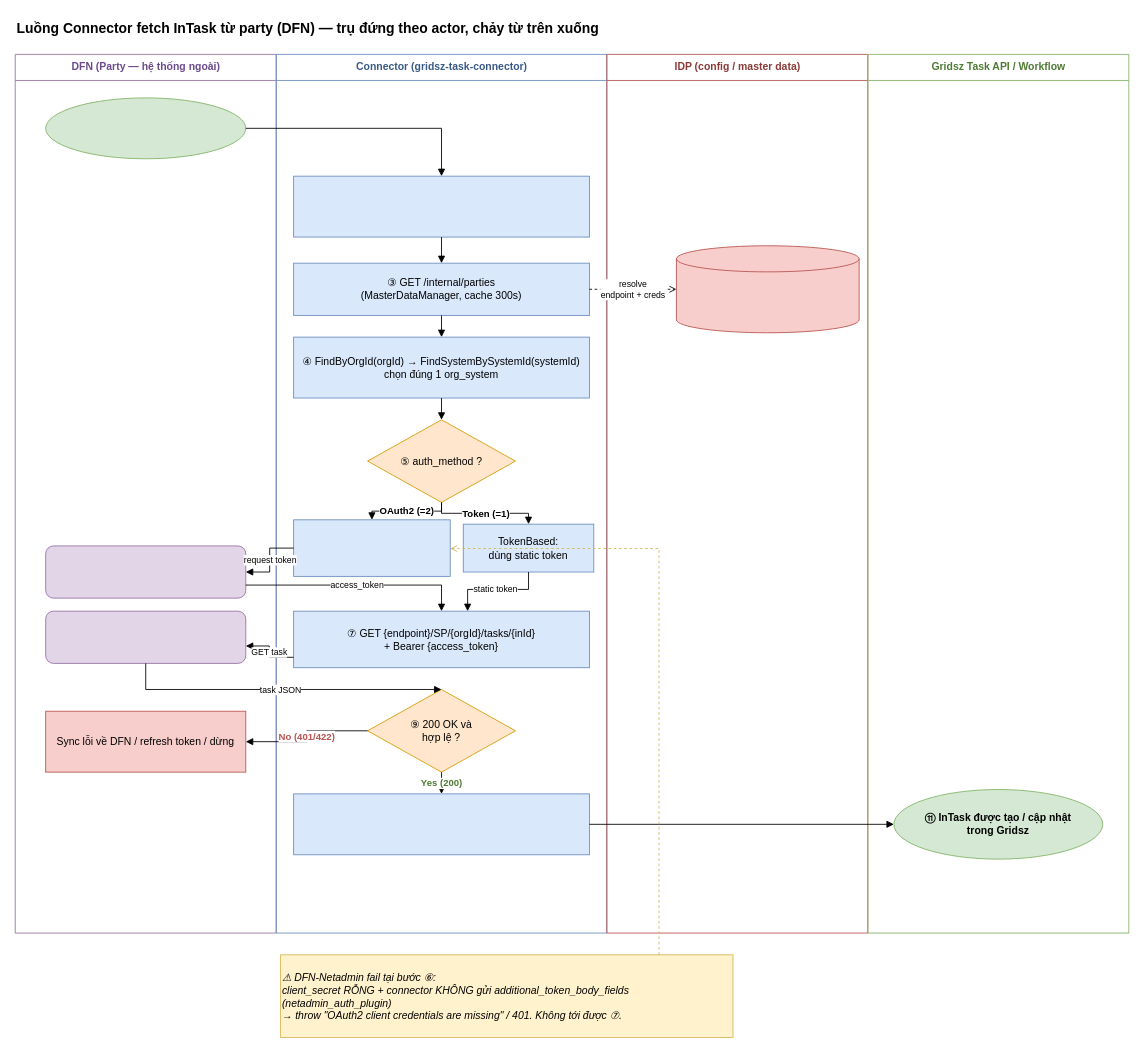
Image size: 1144x1053. Some labels were removed from this diagram. Each missing label, with the box of its shape:
DFN /connect/token cấp access_token: (45, 545, 246, 598)
DFN trả full task (ActiveOperatorTask): (45, 610, 246, 663)
org_systems + org_systems_client_credentials (idp DB — secret 3DES): (676, 245, 859, 333)
① DFN gửi Task Indication (InId, From.SystemId): (45, 97, 246, 159)
② Nhận POST /SP/{orgId}/tasks xác thực JWT → systemId = token.party.SystemId: (293, 175, 589, 237)
⑥ OAuth2: POST {oauth_token_url} client_id + secret: (293, 519, 450, 576)
⑩ map InTask → POST workflow/ CreateOrUpdateInTaskFromAPI: (293, 793, 589, 855)
